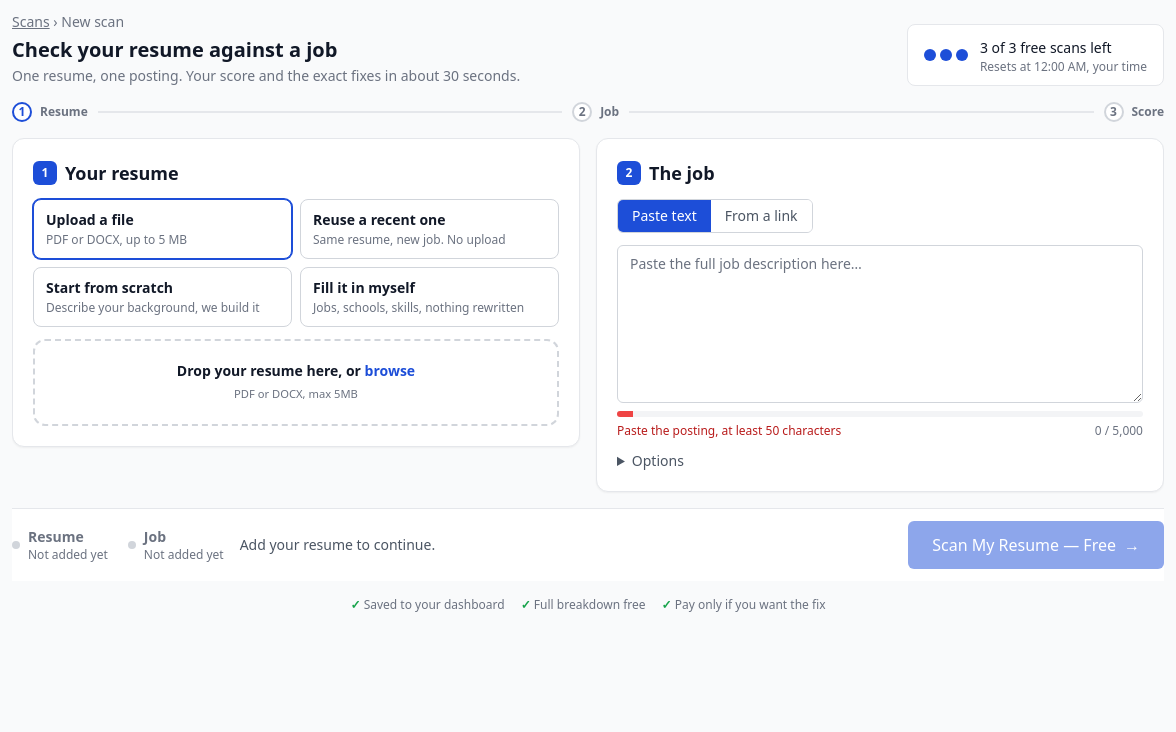
Test case: /scan — reuse a recent resume › choosing another one moves the choice, and the improved-version box goes with the one that has none
The width and height of the screenshot is (1176, 732).
Click the radio button labelled "Reuse a recent one Same resume, new job. No upload".
click(430, 229)  # box [300,199,559,259]
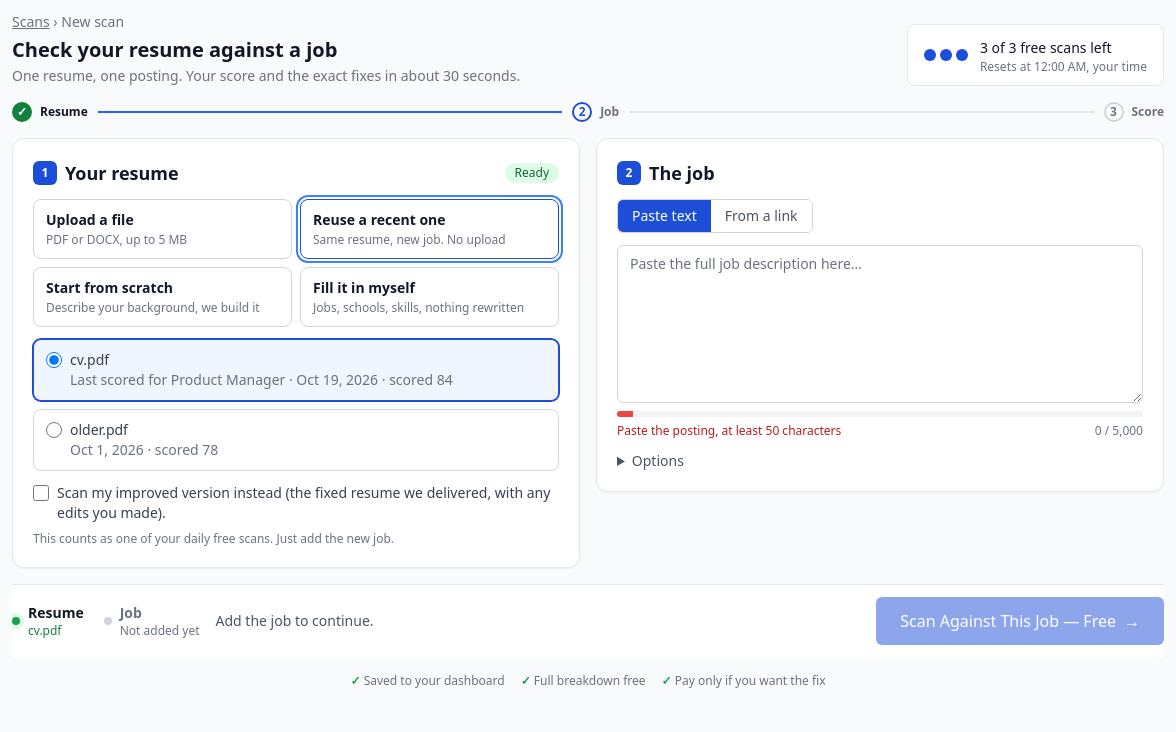
Now the checkbox with test id "rescan-use-improved" is shown, box [33,485,49,501]
Click the radio button labelled "older.pdf Oct 1, 2026 · scored 78".
click(54, 430)  # box [46,422,62,438]
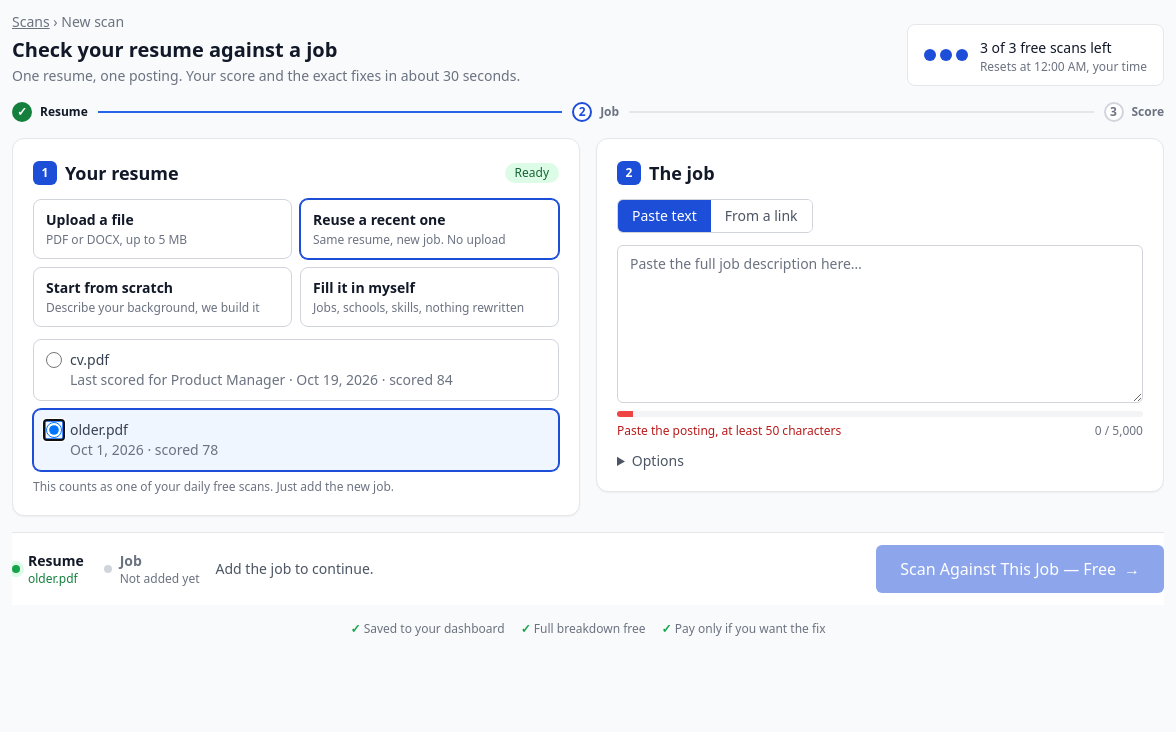
Now the checkbox with test id "rescan-use-improved" is gone
